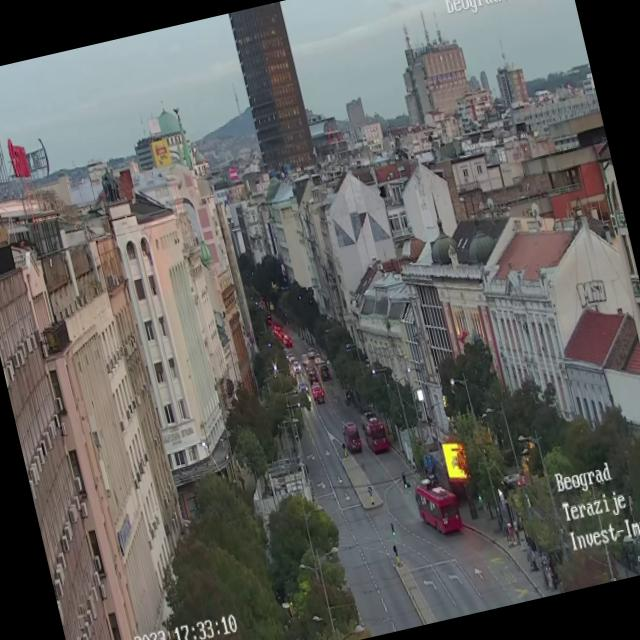bus: (411, 473, 464, 539), (358, 407, 390, 454), (340, 418, 362, 454)
car: (316, 360, 334, 383), (310, 380, 325, 407), (296, 379, 310, 401), (304, 365, 316, 384), (292, 358, 301, 374)
